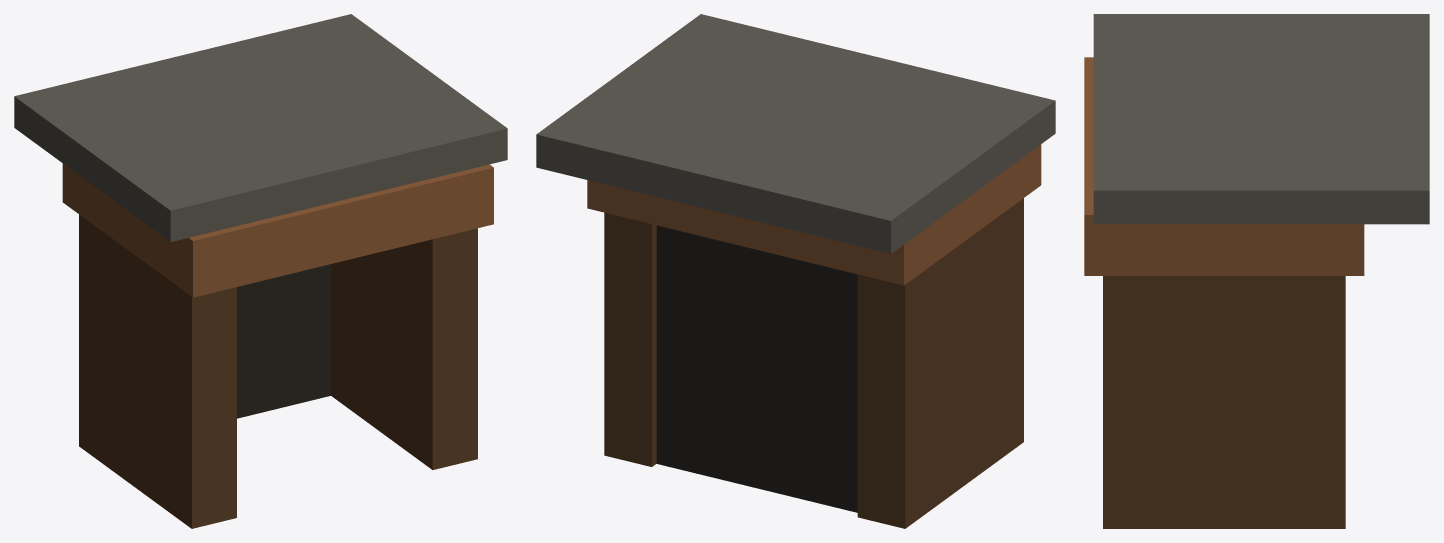
File: mine-entrance.glb
3 views of the same model, side by side, from view 1: azimuth 30°, elevation 25°; view 2: azimuth 150°, elevation 25°; view 3: azimuth 270°, elevation 25° (orthographic). The views are drawn at different scales.
Visible parts, largest first — view 1: Grubendach, Grubenstütze, Grubenstütze.001, Querbalken, Stollendunkel; view 2: Grubendach, Stollendunkel, Grubenstütze, Querbalken, Grubenstütze.001; view 3: Grubendach, Grubenstütze.001, Querbalken.
Part boxes in pixels (<box>): Grubendach: <box>14,14,507,242</box>; Grubenstütze: <box>79,214,236,528</box>; Grubenstütze.001: <box>331,228,477,469</box>; Querbalken: <box>62,163,493,297</box>; Stollendunkel: <box>237,264,330,418</box>; Grubendach: <box>536,14,1055,253</box>; Stollendunkel: <box>656,225,857,512</box>; Grubenstütze: <box>857,198,1023,528</box>; Querbalken: <box>587,144,1041,285</box>; Grubenstütze.001: <box>604,212,656,466</box>; Grubendach: <box>1093,14,1429,224</box>; Grubenstütze.001: <box>1103,276,1345,528</box>; Querbalken: <box>1084,57,1364,275</box>.
Size of the model in its own units: 1.12 by 1.04 by 0.925.
